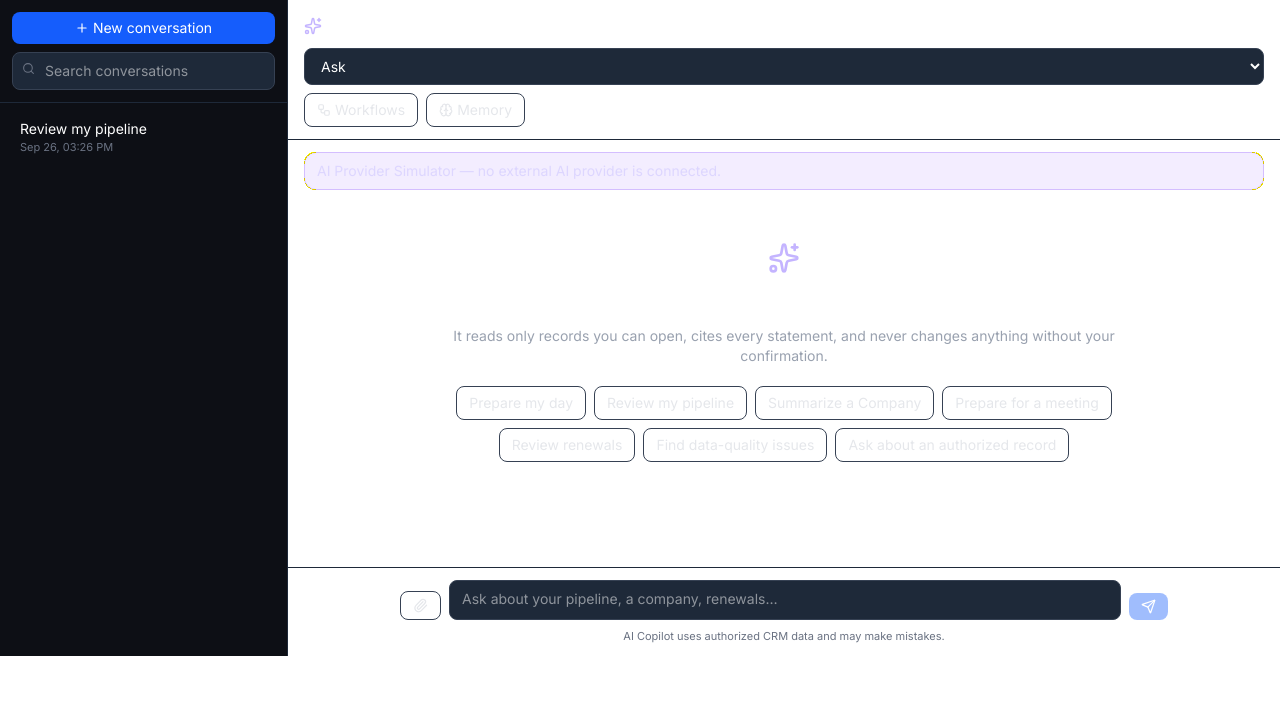
it: AiCopilotBackend (backend AI mode) › a proposal runs only when the person confirms it
This screenshot has width=1280, height=720.
Click the text "Review my pipeline" at (84, 128), box left=20, top=120, right=147, bottom=137
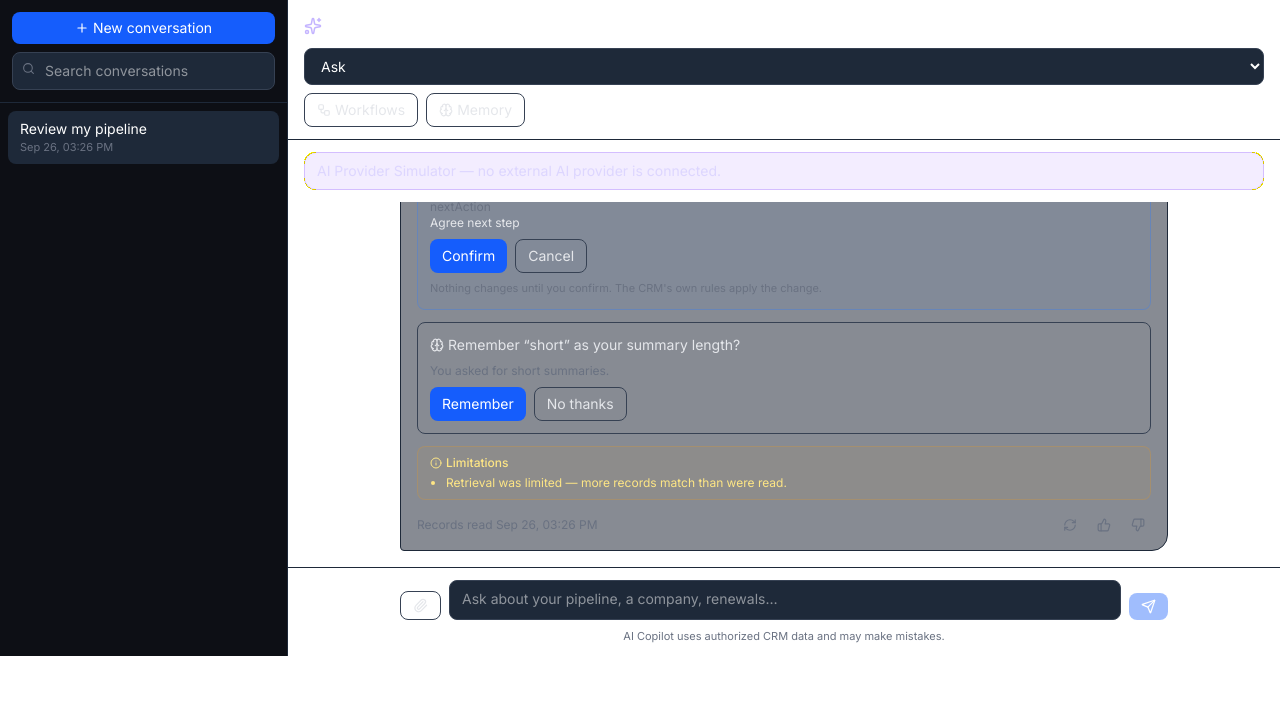
Now the element named "Copilot answer" is shown, box left=400, top=202, right=1168, bottom=551
Click the button "Confirm" at (469, 256), box left=430, top=239, right=507, bottom=273
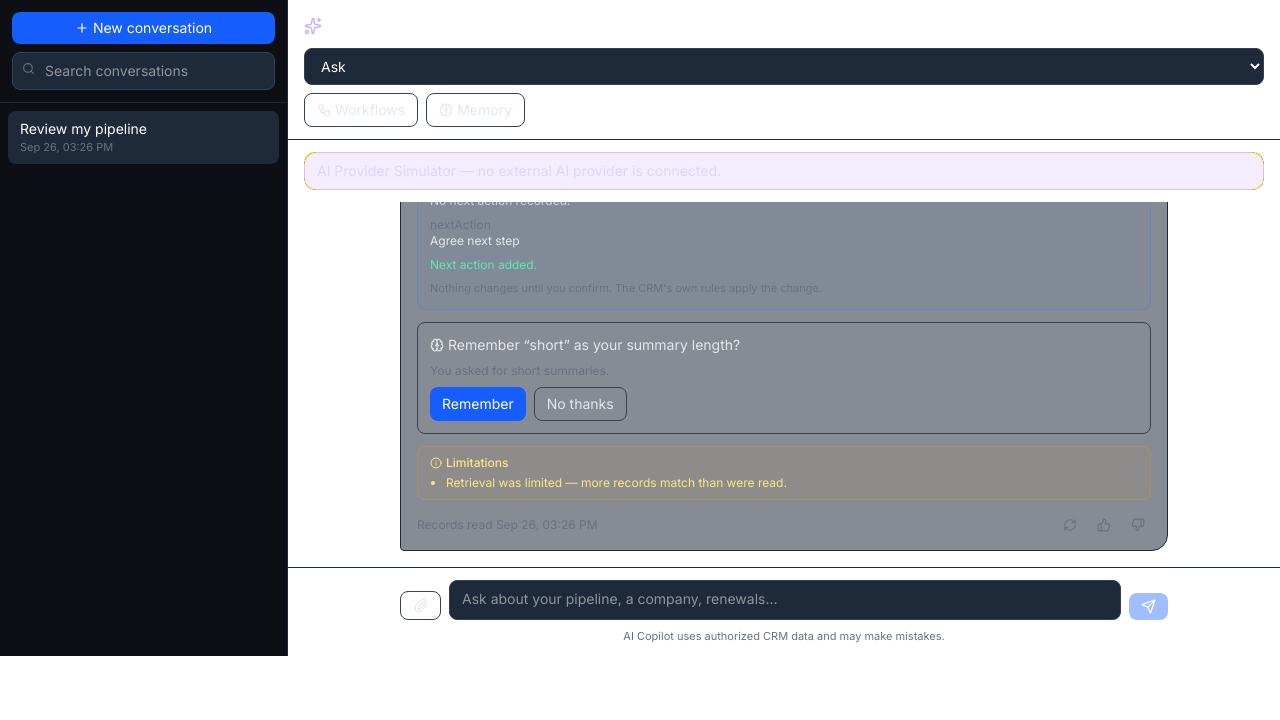
Now the text "Next action added." is shown, box left=430, top=257, right=537, bottom=272
